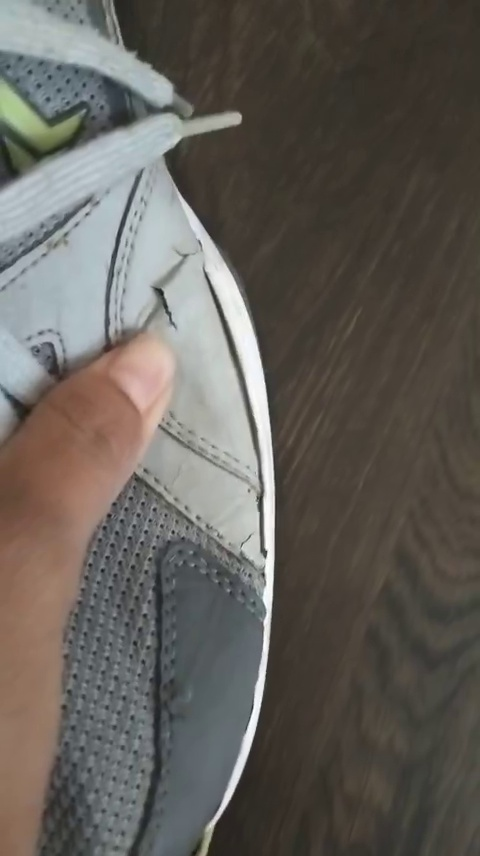bonding: (194, 268, 281, 564)
